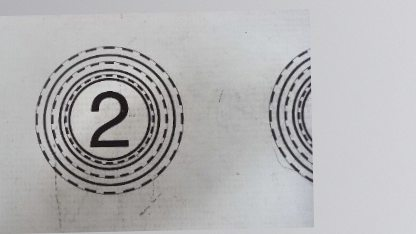2r: (29, 40, 186, 199)
